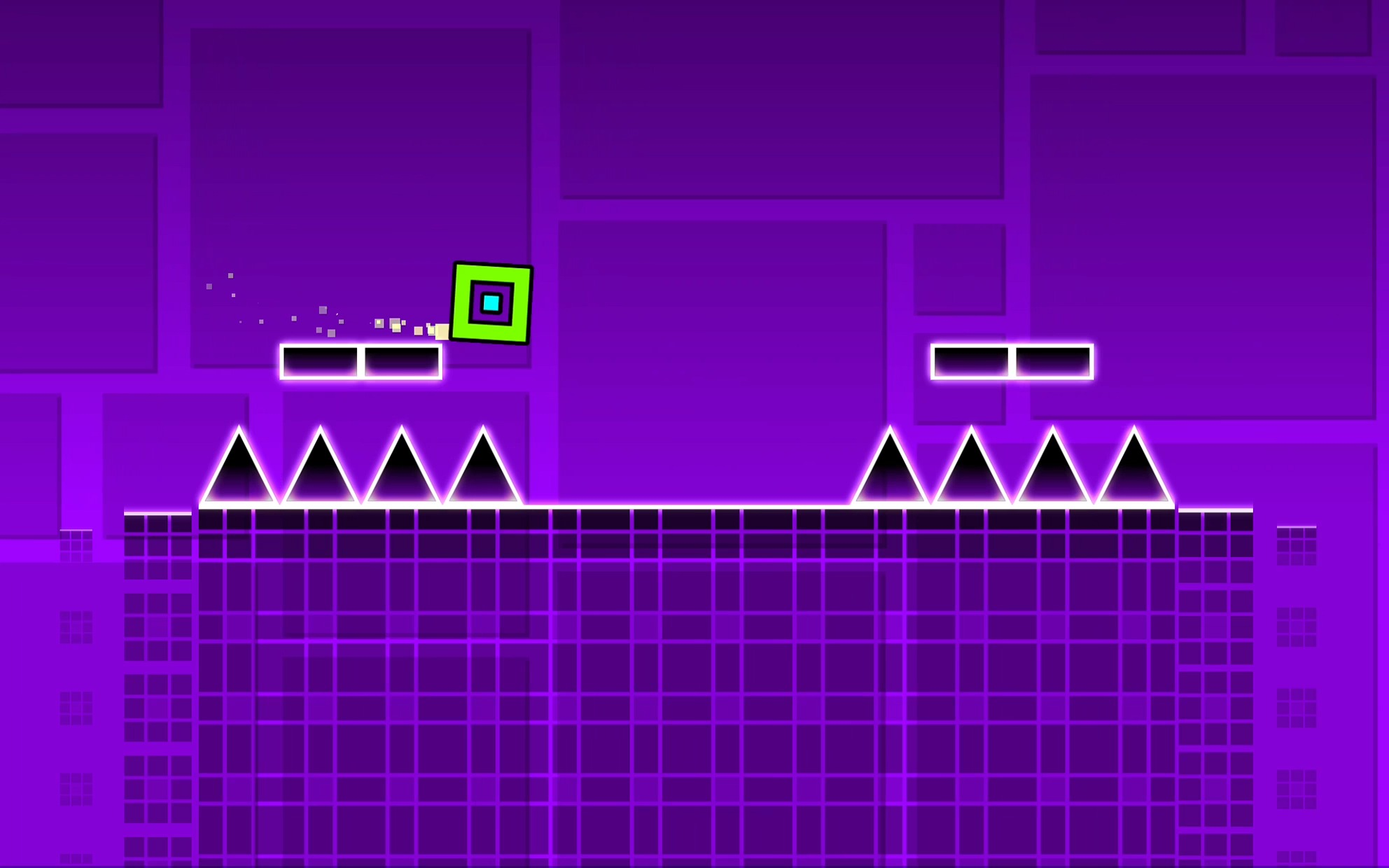Block2: (127, 506, 1322, 868)
Block3: (270, 343, 359, 385), (927, 342, 1017, 383), (358, 342, 448, 381), (1015, 342, 1094, 384)
Player: (450, 262, 533, 340)
Spike: (200, 425, 275, 503), (1096, 427, 1171, 505), (447, 426, 520, 501), (853, 426, 925, 501), (1017, 427, 1089, 501), (284, 426, 355, 501), (367, 426, 438, 500), (937, 427, 1007, 501)
